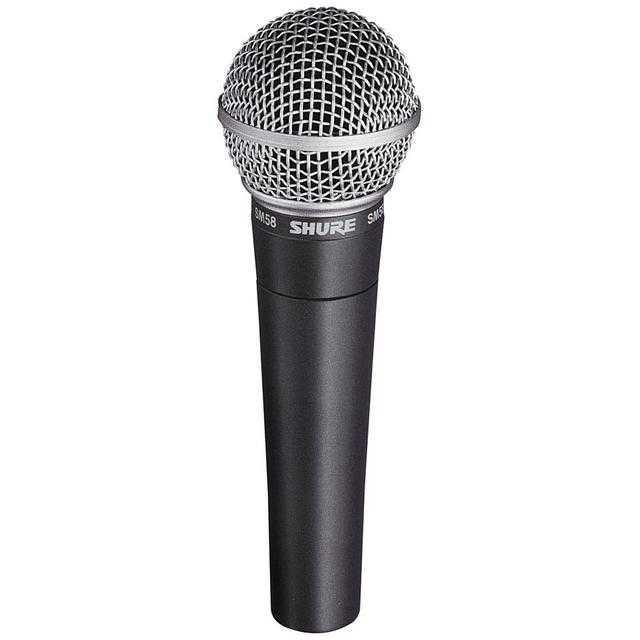microphone: (219, 11, 423, 619)
